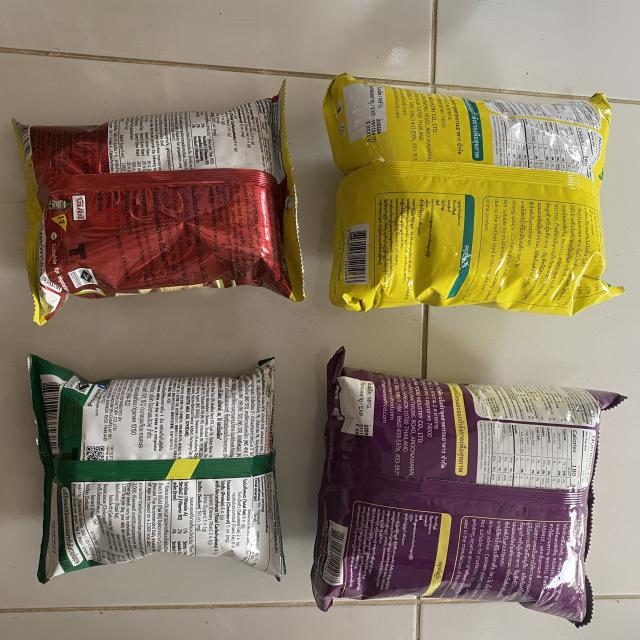plastik: (311, 348, 625, 625), (324, 74, 624, 315), (12, 82, 305, 325), (29, 355, 285, 582)
